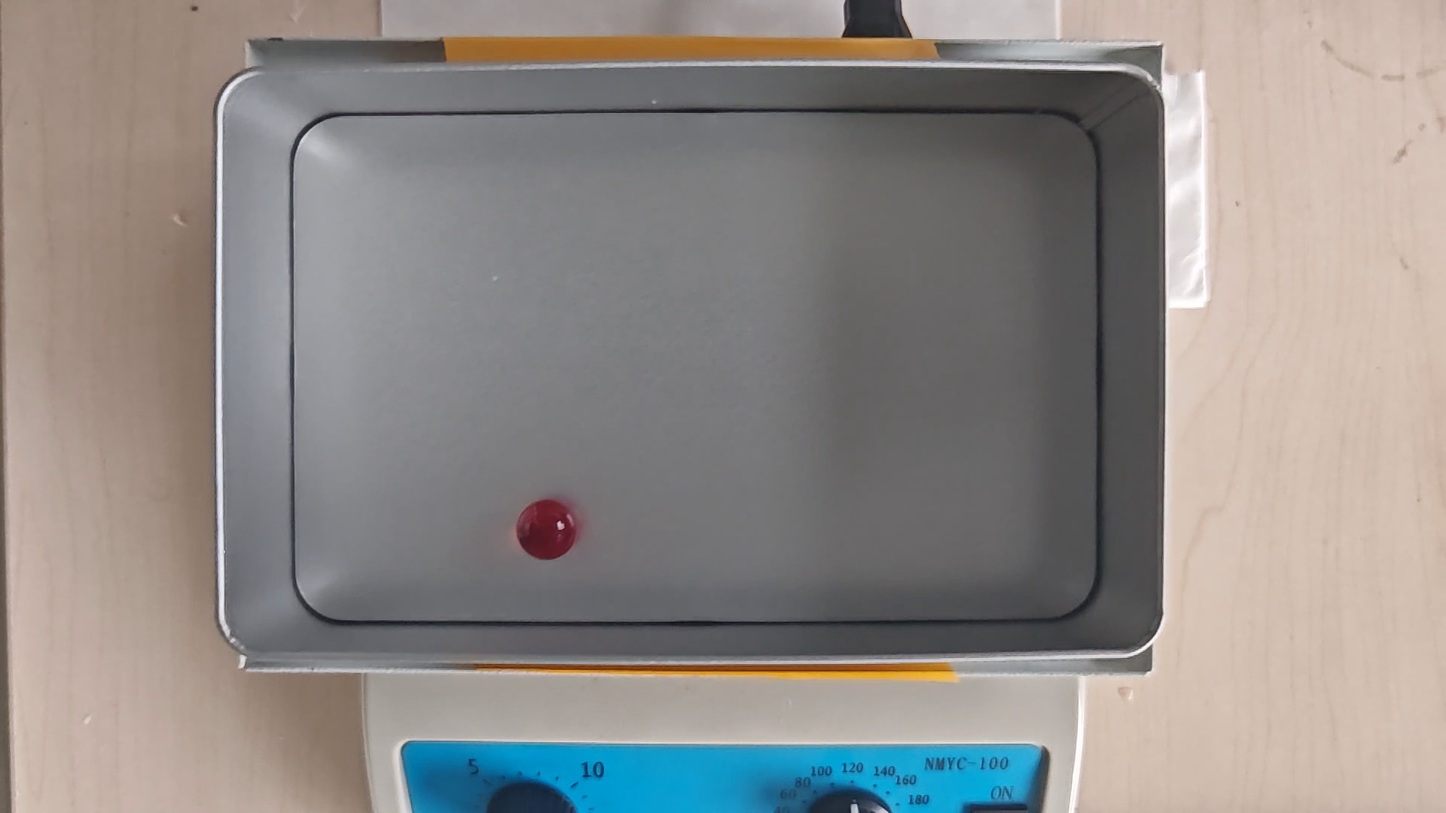ball: (518, 498, 576, 560)
container: (294, 114, 1098, 620)
